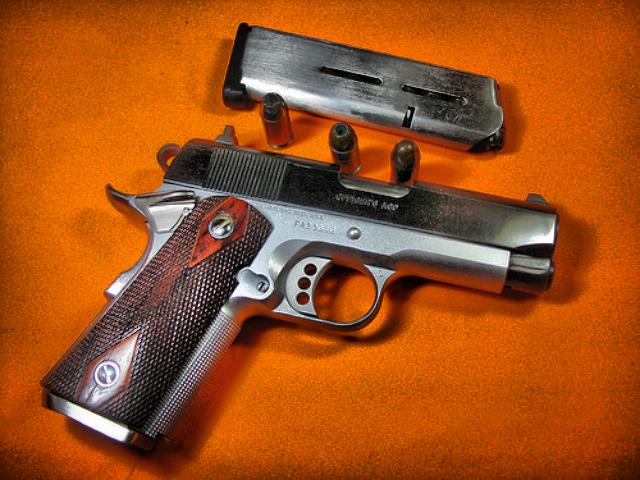pistol: (37, 123, 560, 445)
